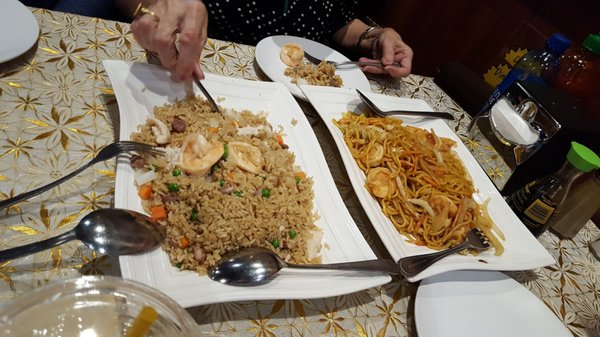burger: (1, 137, 170, 209), (399, 226, 493, 279)
pizza: (546, 168, 600, 241)
salad: (0, 208, 167, 269), (210, 248, 405, 286)
